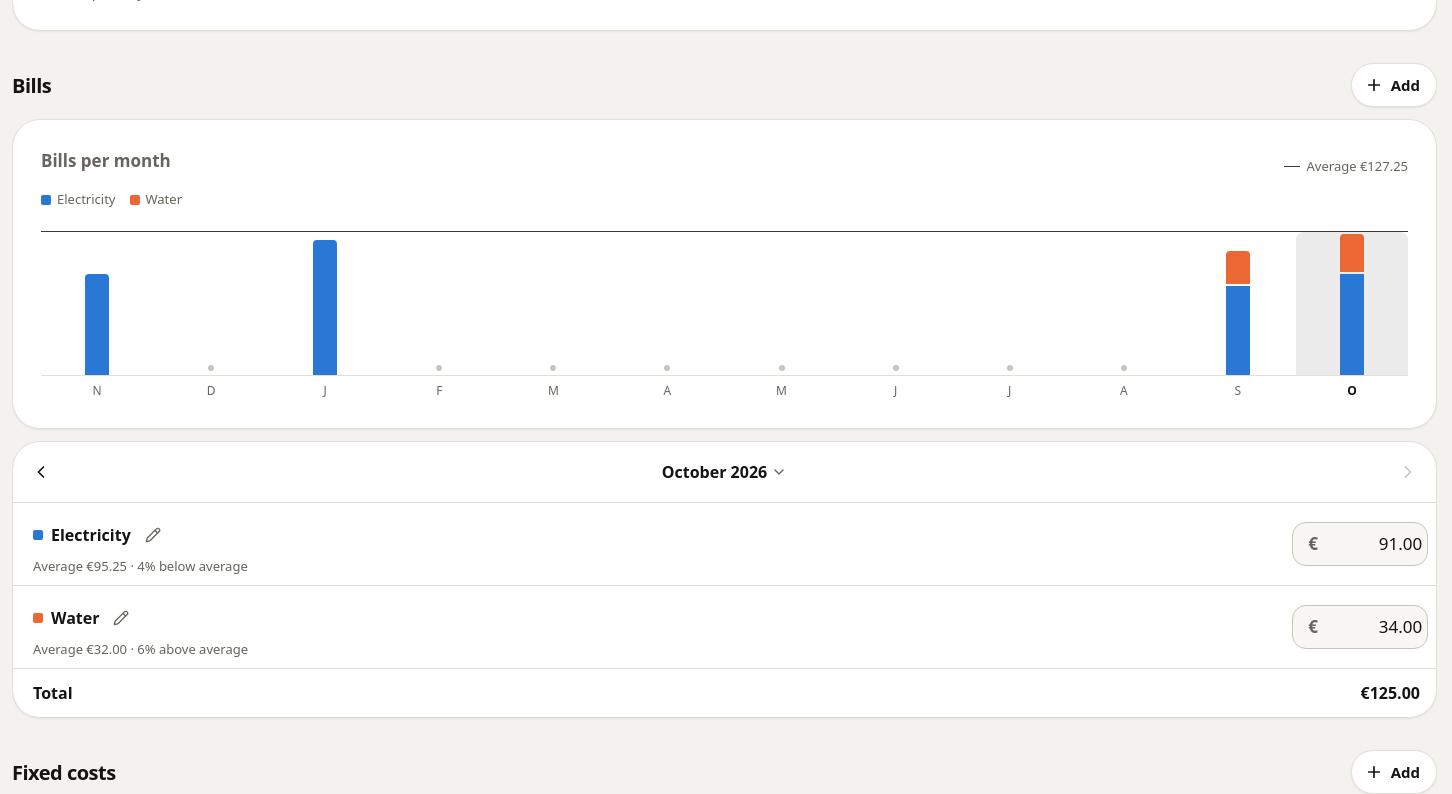
Test: Monthly bills › steps through the months with the arrows and the chart
(page scrolled)
Click the button named "Previous month": [41, 472] box 21,450 -> 61,494
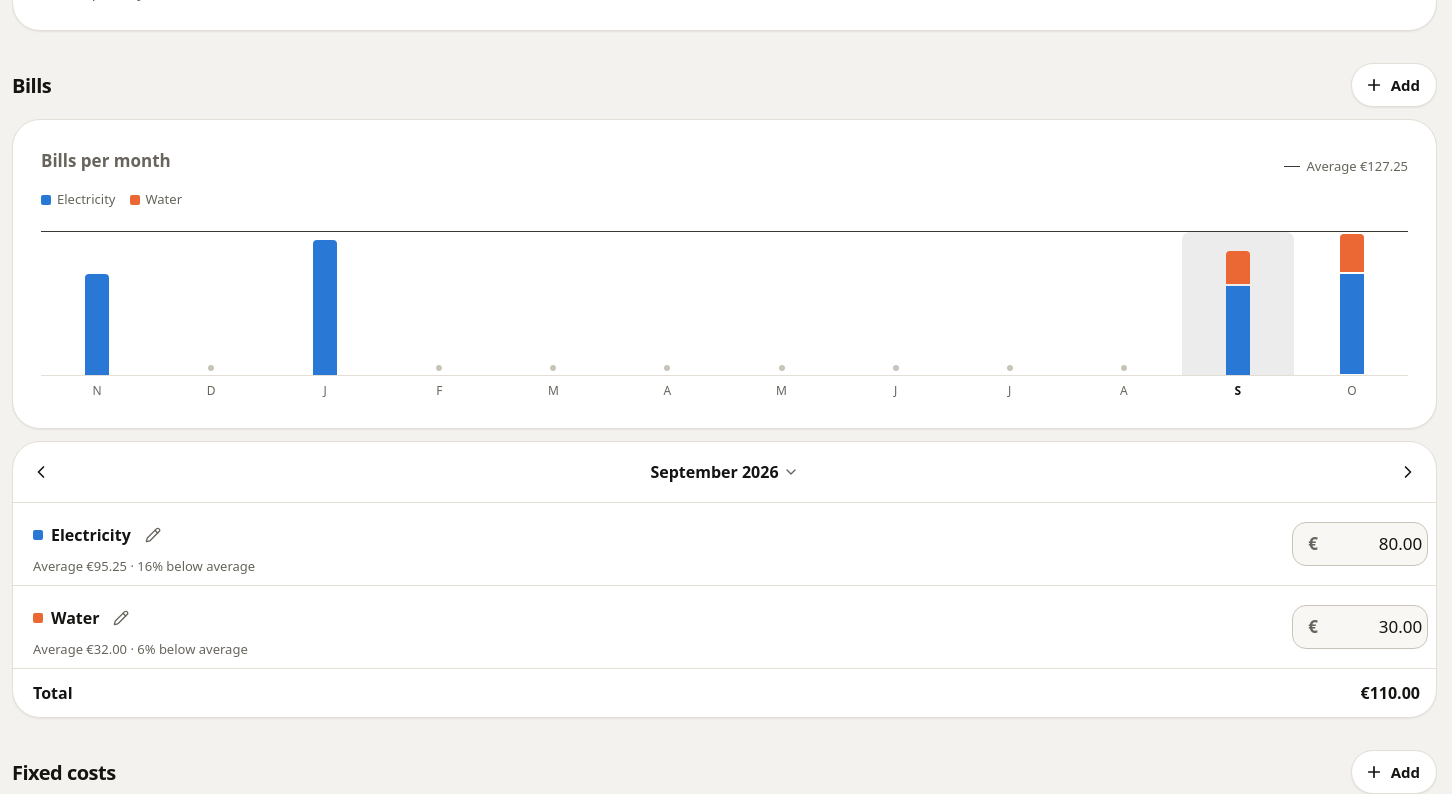
expect the column heading "September 2026" is shown: met, box 42,481 -> 172,507
expect the field labelled "Electricity" holds "80.00": met, box 1326,524 -> 1422,564
expect the field labelled "Water" holds "30.00": met, box 1326,607 -> 1422,647
Press Home in the element named "Bills per month", box 41,232 -> 1408,400
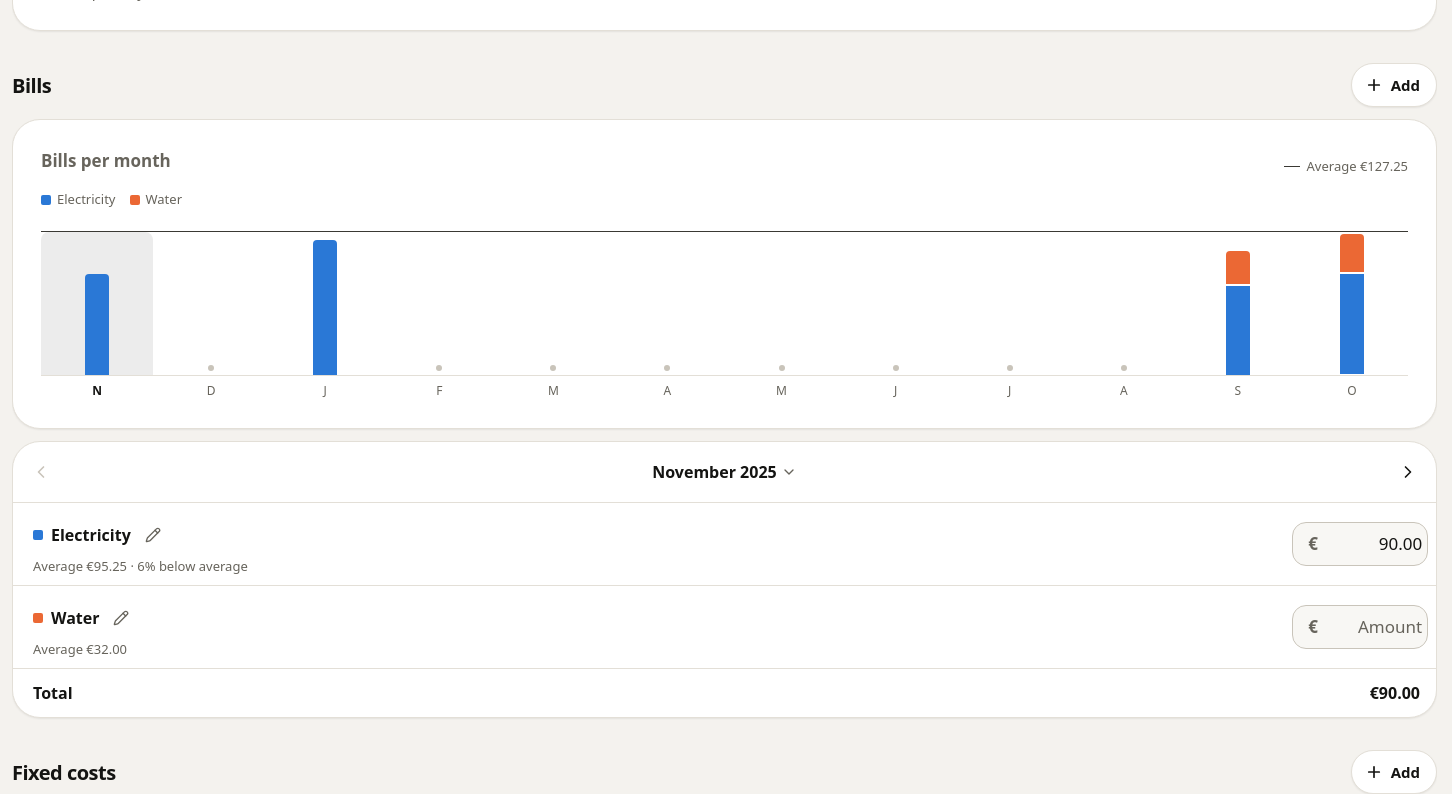
expect the column heading "November 2025" is shown: met, box 42,201 -> 172,227
expect the field labelled "Water" is empty: met, box 1326,607 -> 1422,647
Press ArrowRight in the element named "Bills per month", box 41,232 -> 1408,400
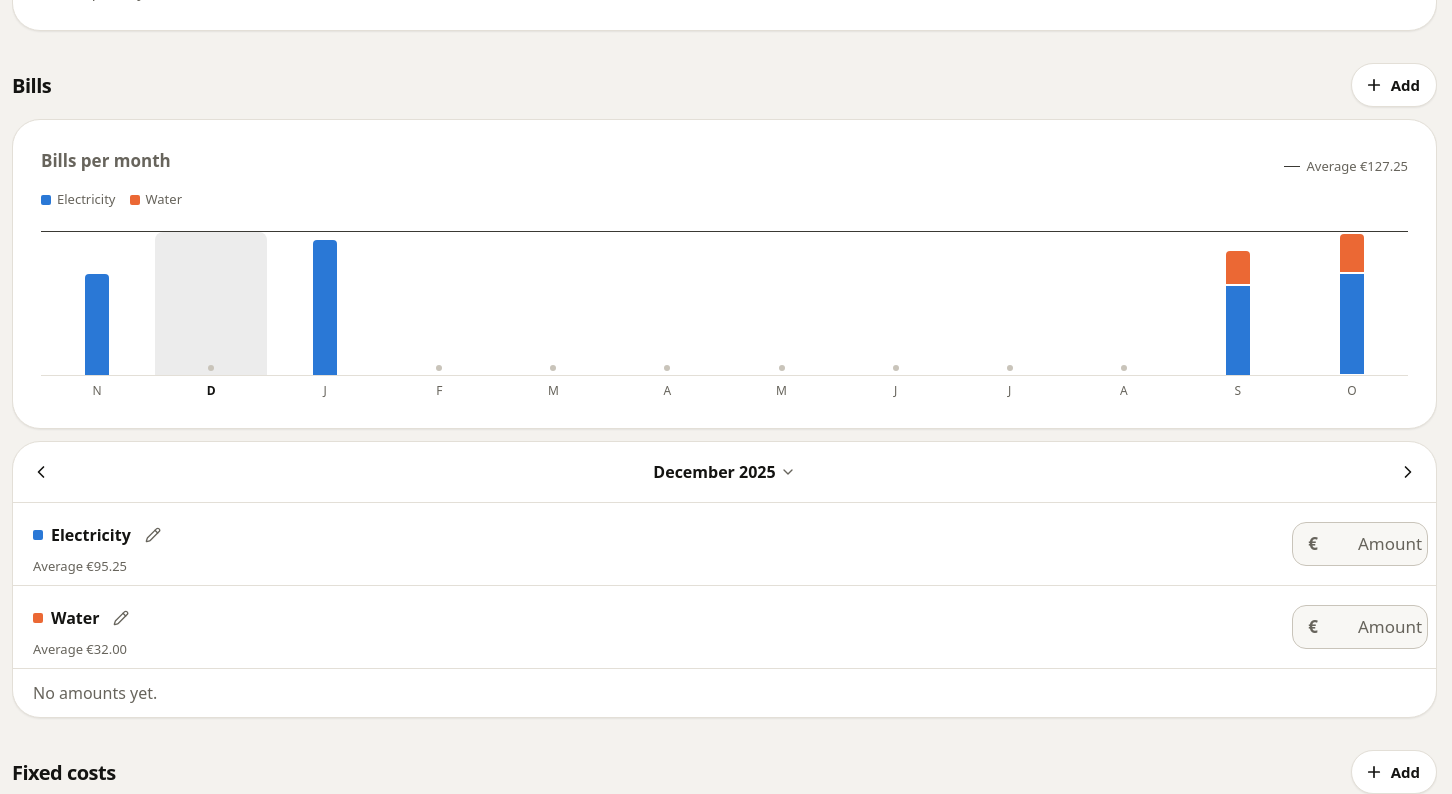
expect the column heading "December 2025" is shown: met, box 42,229 -> 172,255
expect the text with class "bill-month-total" reads "No amounts yet.": met, box 33,682 -> 157,704
In the field labelled "Water": [1374, 627] box 1326,607 -> 1422,647, type "29.5"
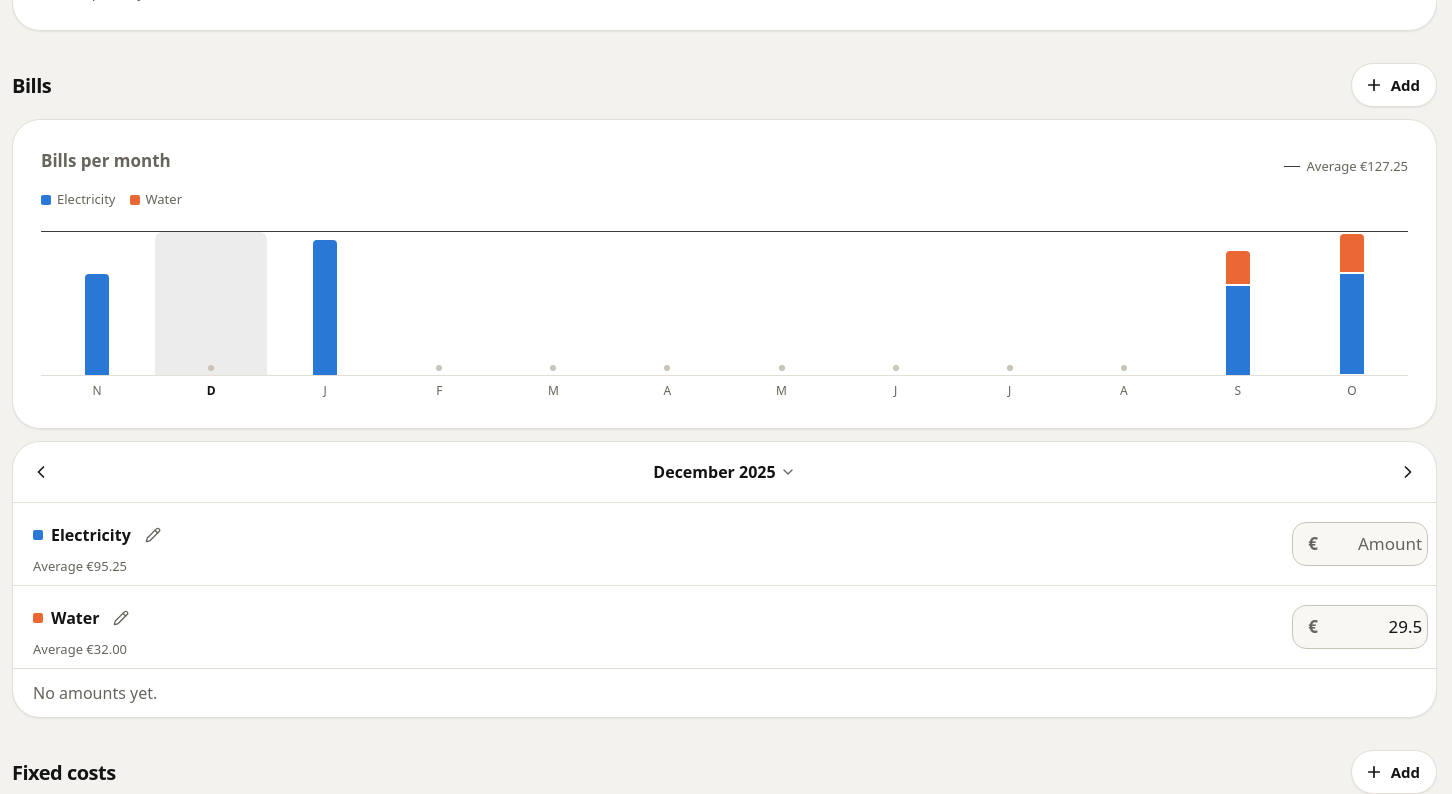
Leave the field labelled "Water", box 1326,607 -> 1422,647
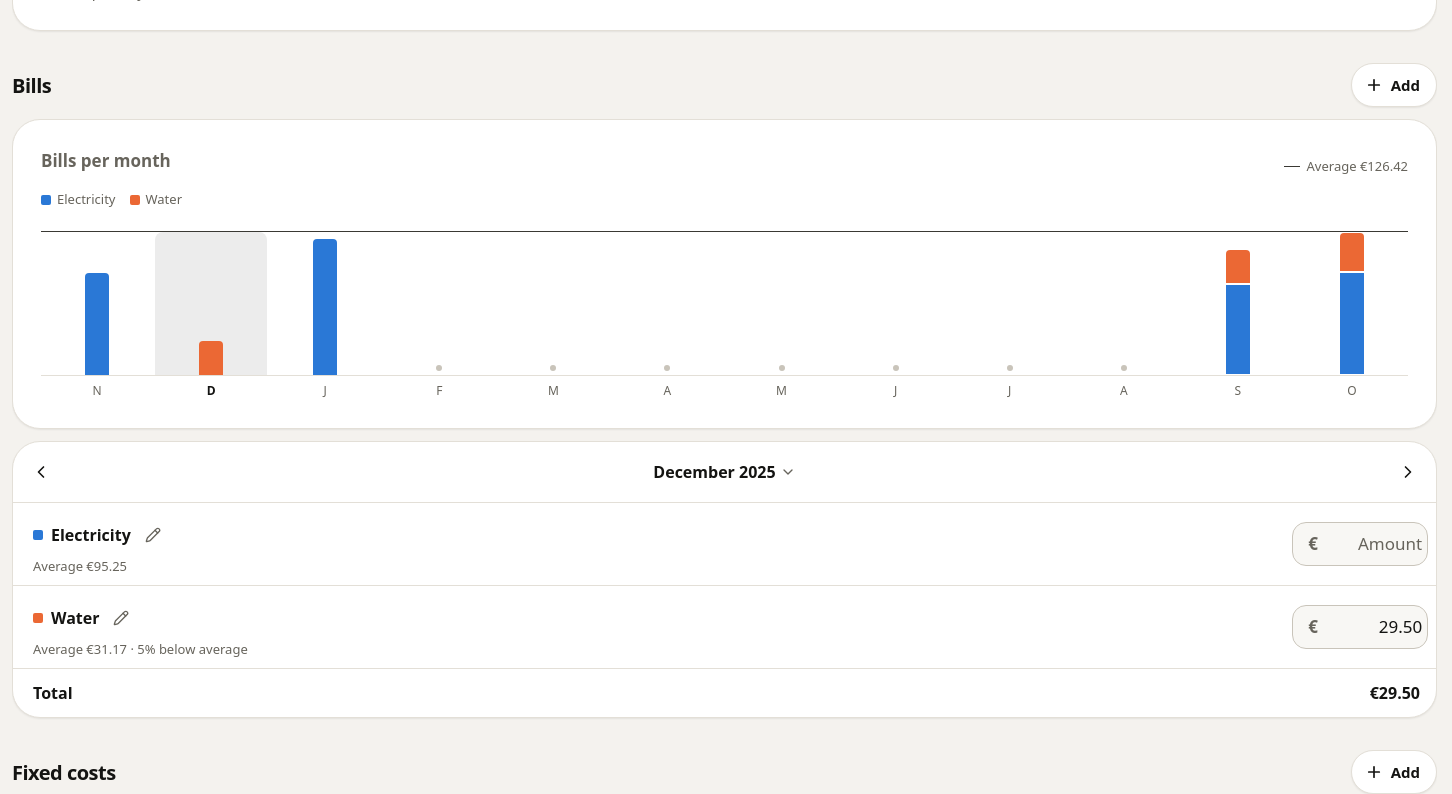
expect the field labelled "Water" holds "29.50": met, box 1326,607 -> 1422,647
expect the element with class "bill-month-total" reads "Total €29.50": met, box 13,668 -> 1436,717
